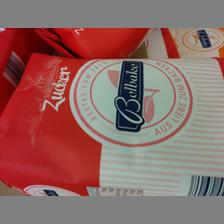Mehl: (0, 52, 224, 196)
